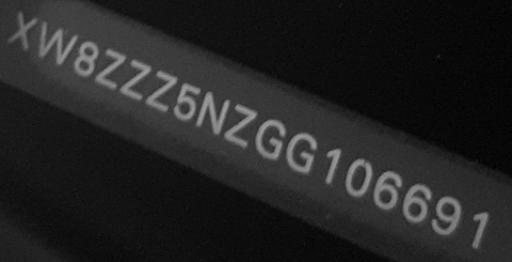letter: (35, 20, 81, 71), (220, 98, 262, 150), (194, 87, 234, 139), (280, 128, 322, 176), (2, 7, 40, 57), (428, 188, 470, 233), (372, 166, 408, 217), (143, 66, 181, 114), (91, 46, 131, 91), (254, 115, 290, 163), (166, 82, 206, 124), (399, 179, 433, 228), (116, 60, 156, 101), (344, 154, 376, 201), (467, 202, 499, 248), (317, 142, 349, 187), (68, 38, 100, 81)
